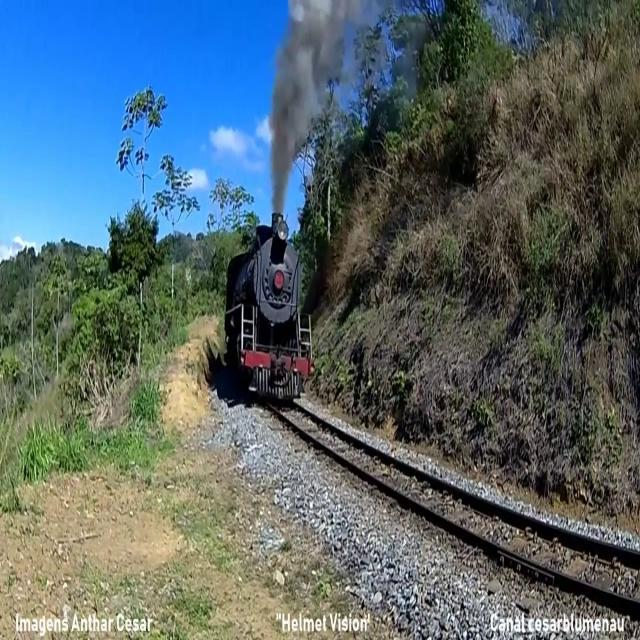Smoke: (255, 0, 383, 220)
